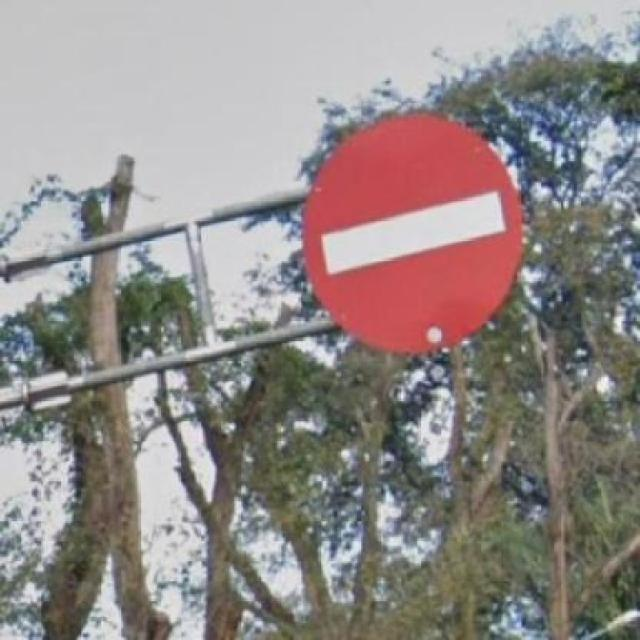no entry: (300, 110, 524, 350)
